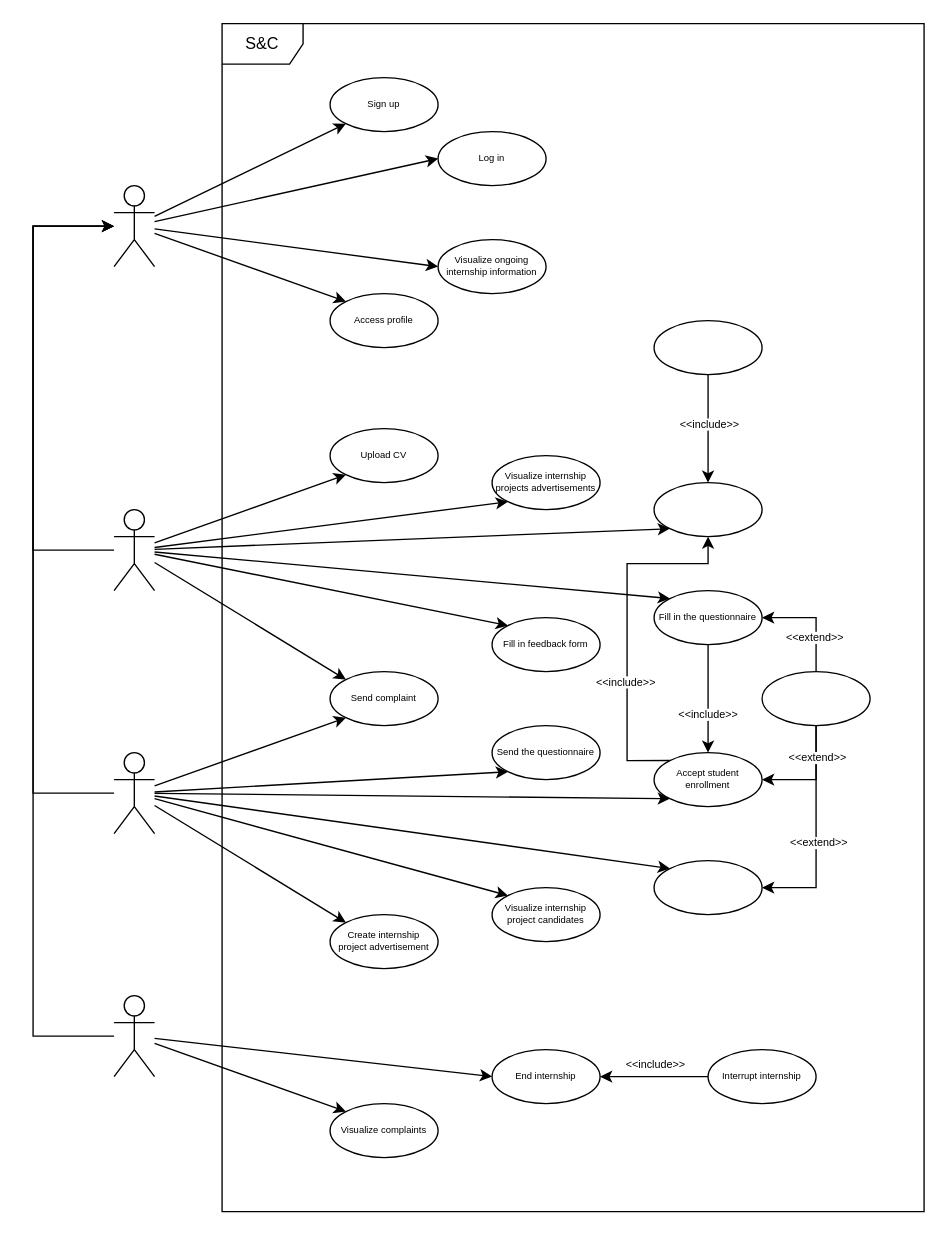
Image size: 948x1235. Some labels were removed from this diagram. Each missing label, with the centre of its shape:
Accept company proposal: point (707, 509)
Company: point (134, 792)
Create a custom questionnaire: point (707, 887)
Initiate internship: point (707, 347)
Notify: point (815, 698)
Student: point (134, 549)
University: point (134, 1035)
User: point (134, 225)
